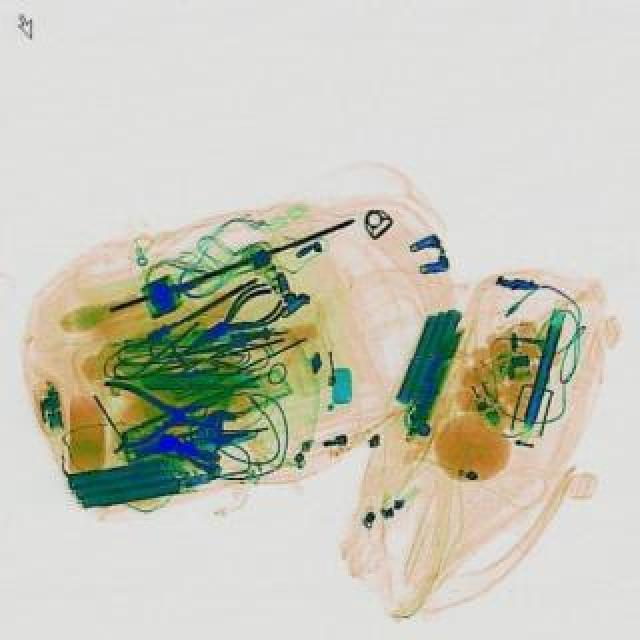scissors: (120, 408, 244, 472)
wrench: (174, 280, 294, 370), (106, 376, 226, 454)
